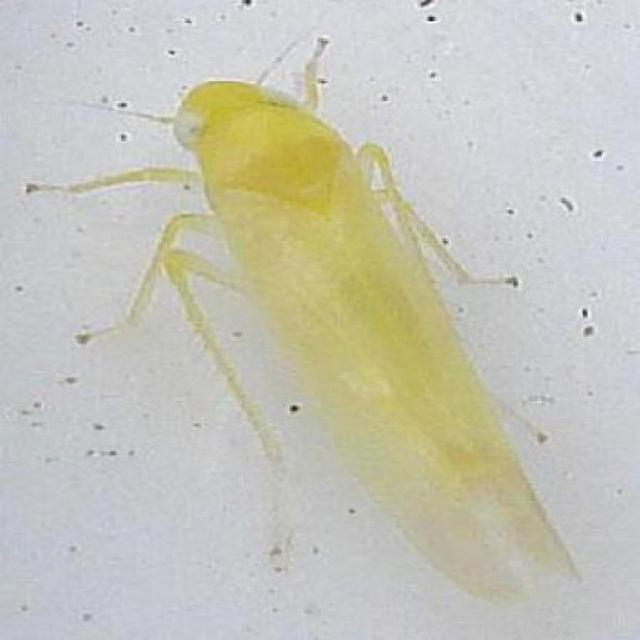green-leafhopper: (160, 83, 569, 586)
